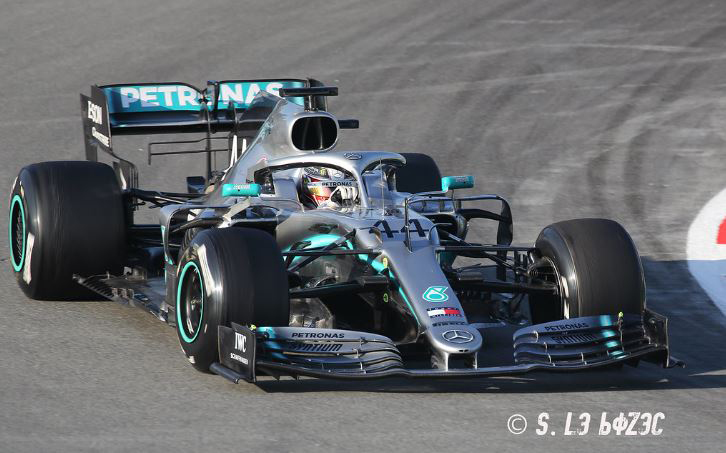F1 Car: (13, 73, 691, 399)
